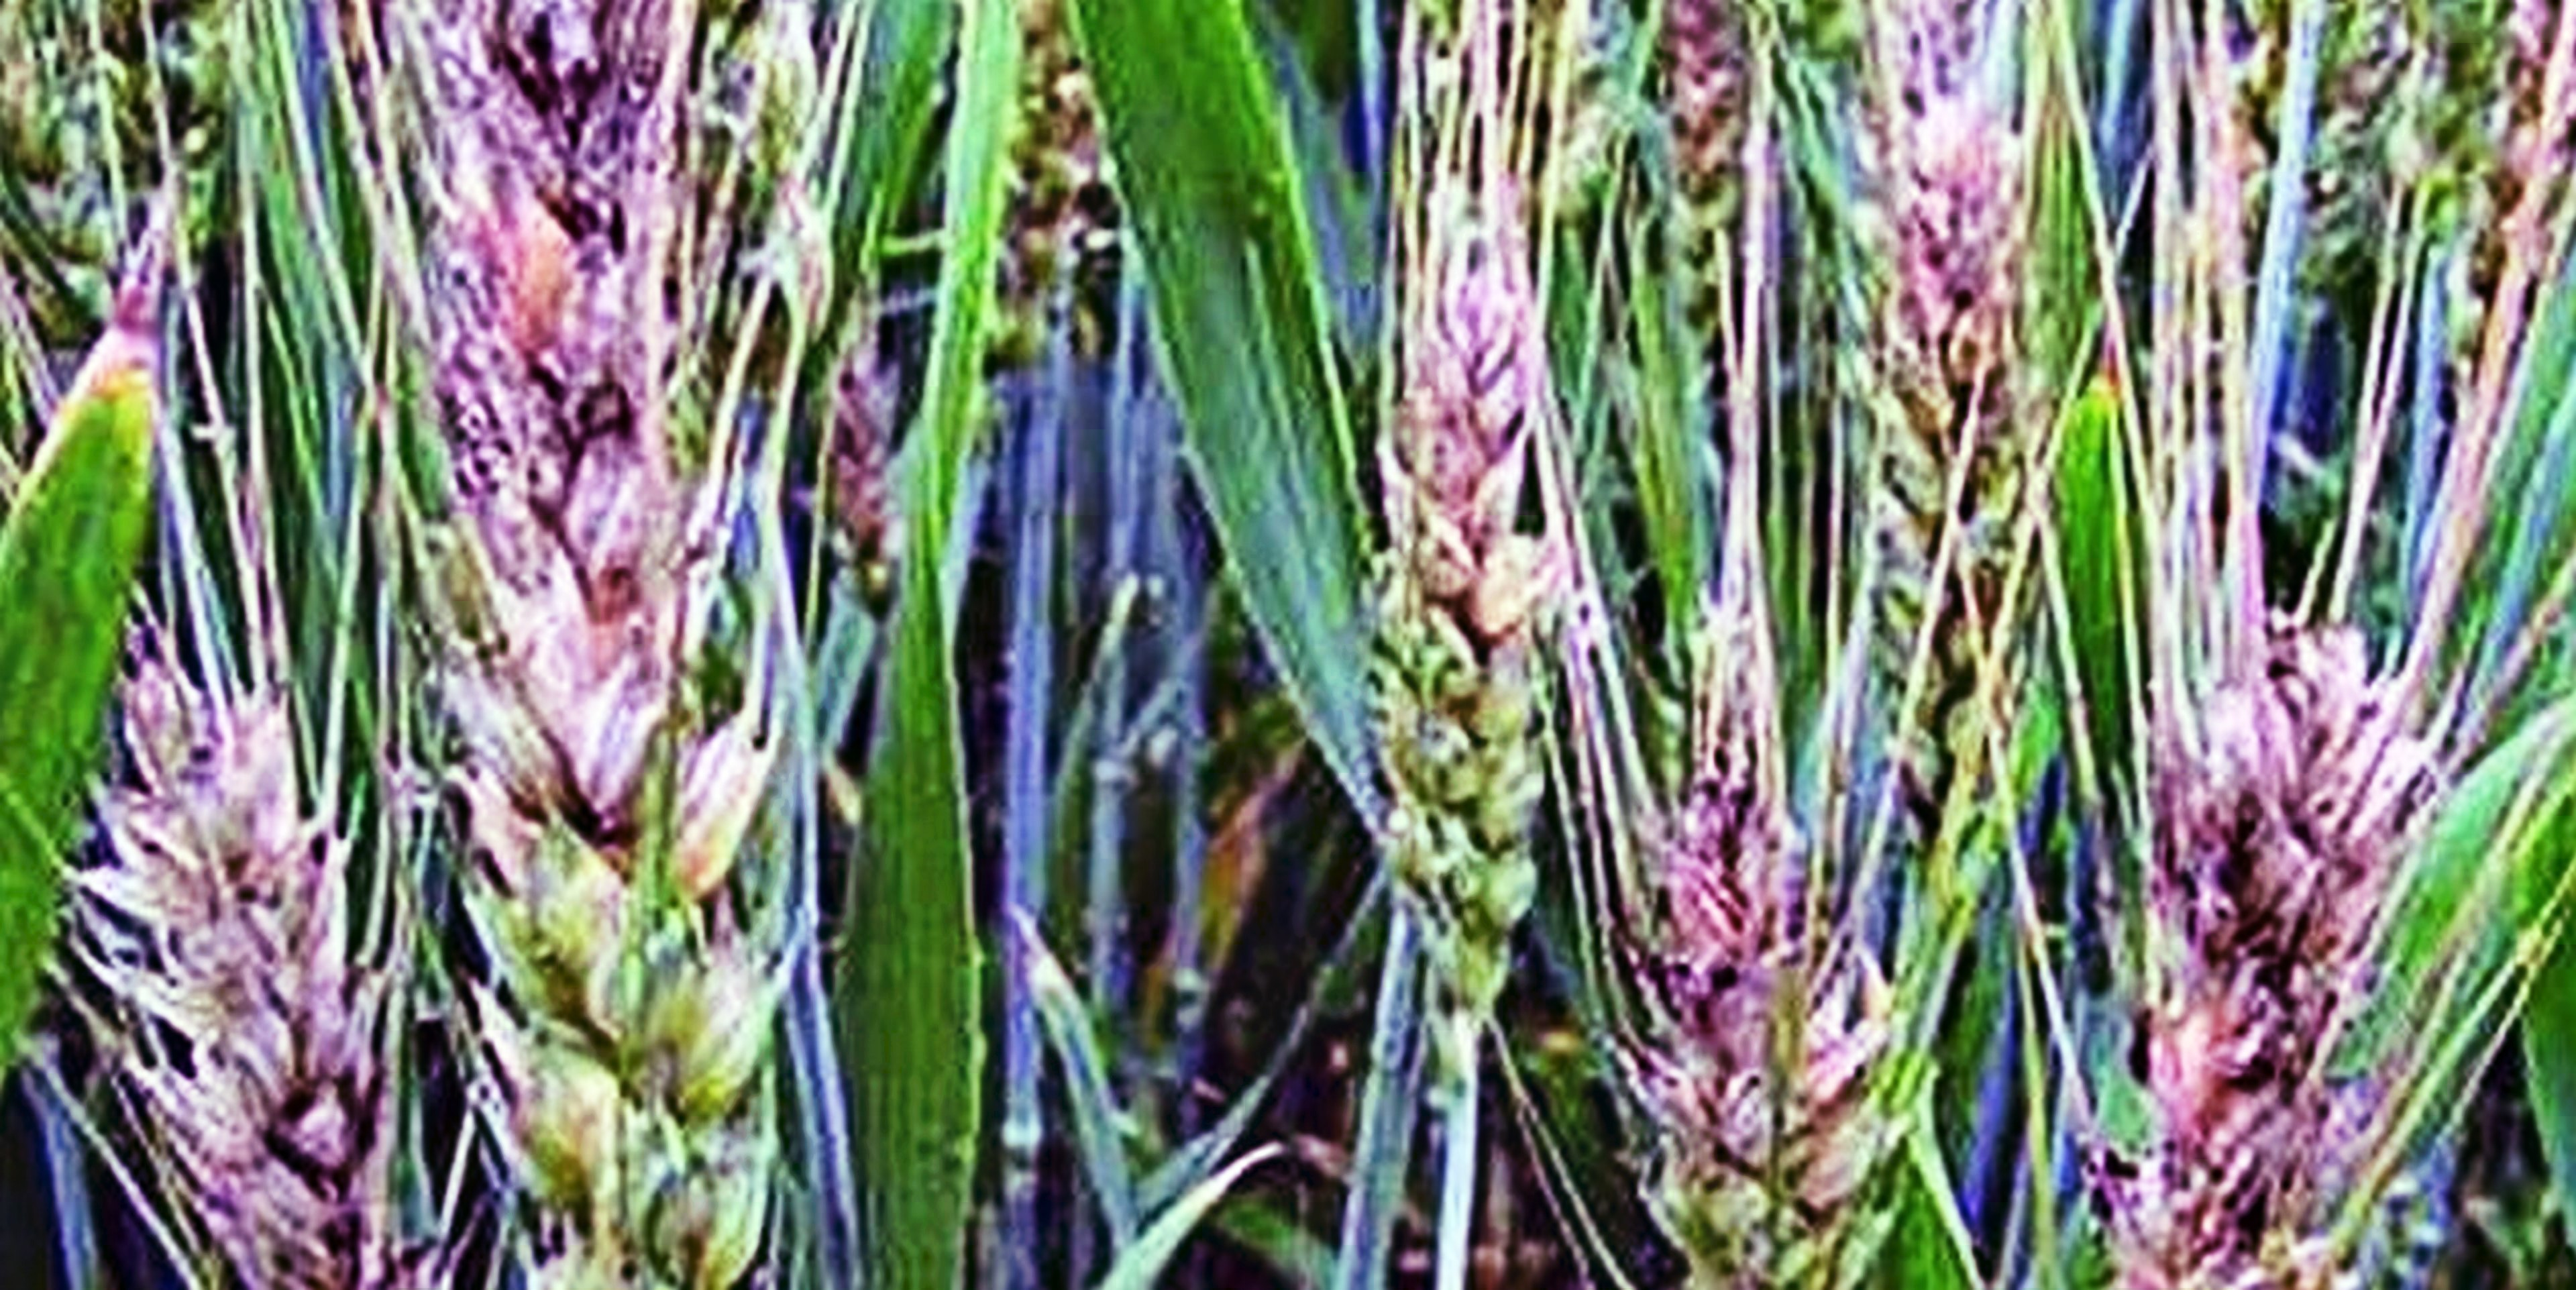Wheat scab: (1351, 216, 1578, 966)
